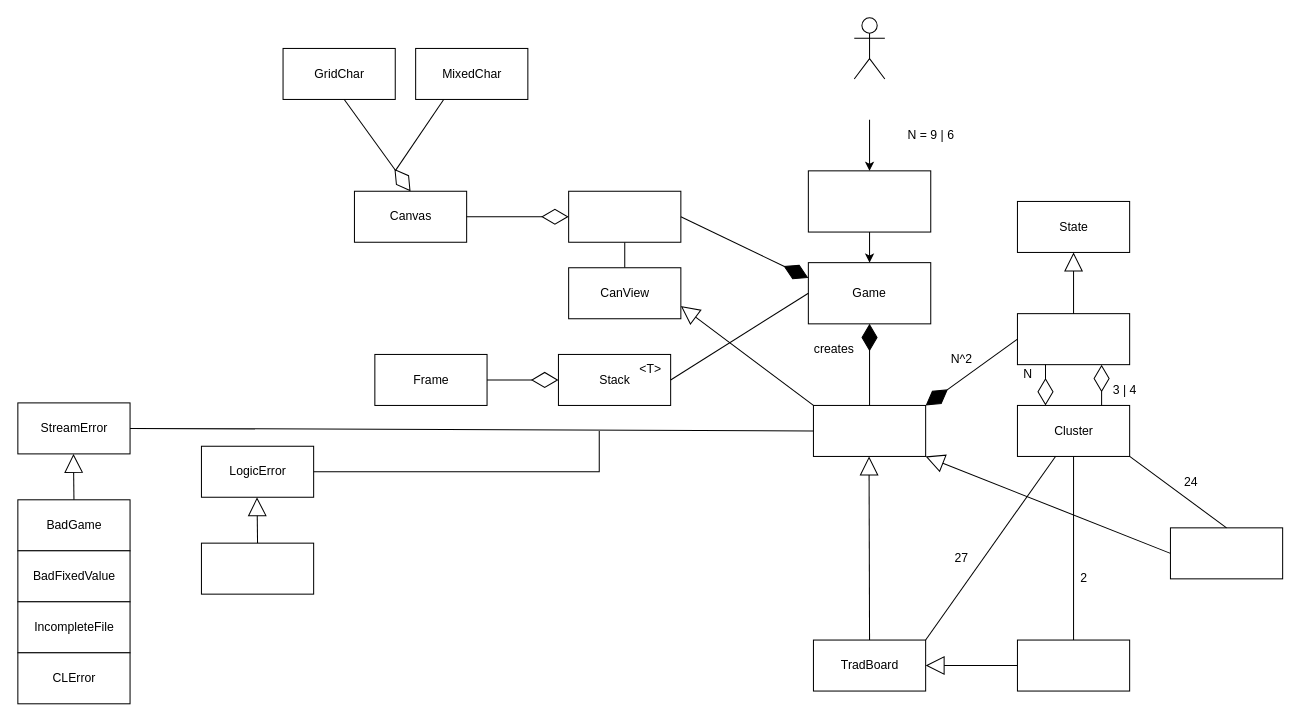
Image size: 1301x722. Some labels were removed from this diagram. The shapes that lost their labels are listed below. From the top down, each one's centre as x and y in pixels, then its label:
At pixel 869 48: "Player".
At pixel 624 216: "Viewer".
At pixel 869 201: "main".
At pixel 1073 339: "Square".
At pixel 869 430: "Board".
At pixel 257 568: "BadMark".
At pixel 1226 553: "SixyBoard".
At pixel 1073 665: "DiagBoard".
